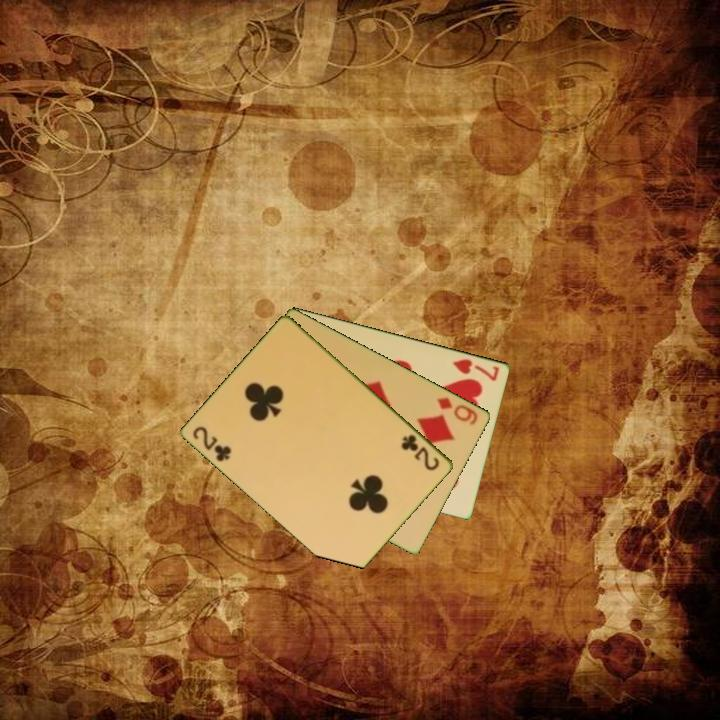2c: (398, 431, 443, 473), (190, 423, 235, 465)
6d: (434, 393, 481, 428)
7h: (450, 355, 502, 384)
